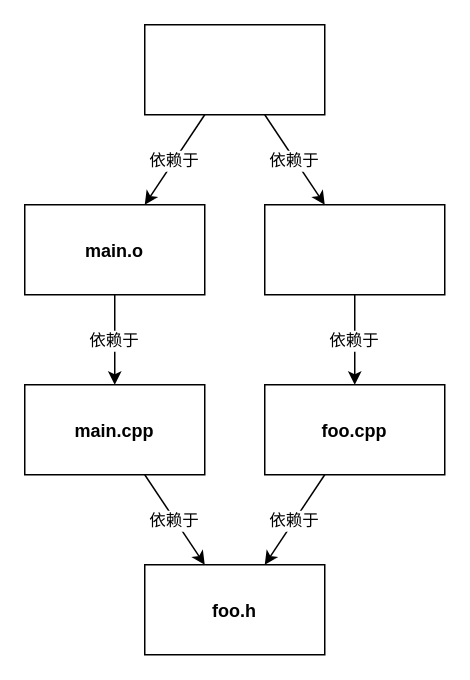
This 470x680 diagram has some shape labels left out. Here are the shapes that lost their labels. From the top down, the box of each, then its label:
(143, 23, 325, 115): main (executable)
(263, 203, 445, 295): foo.o
